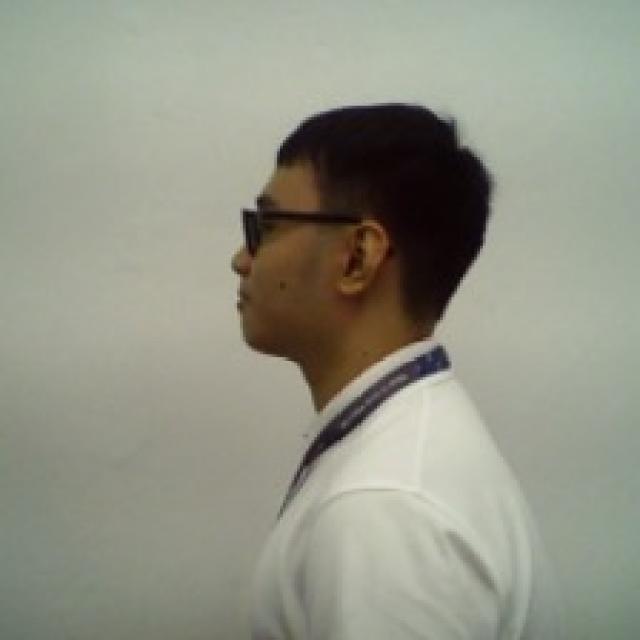no_gloves: (235, 94, 503, 285)
no_hairnet: (226, 215, 399, 364)
